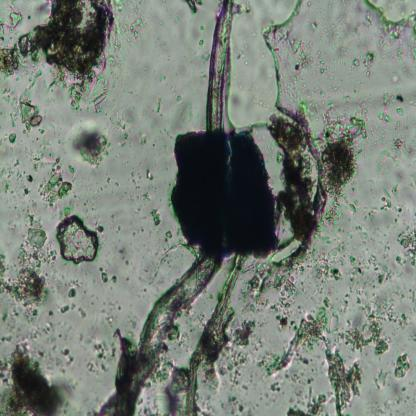Background material: (263, 310, 364, 416), (186, 256, 249, 416), (1, 0, 117, 77), (273, 104, 326, 252), (0, 343, 71, 416), (0, 228, 56, 304), (318, 112, 364, 204), (242, 252, 302, 315), (144, 349, 189, 415), (274, 27, 328, 82), (338, 303, 391, 357), (50, 74, 117, 115), (57, 206, 102, 262), (0, 77, 43, 129), (374, 17, 416, 68), (376, 123, 416, 175), (66, 124, 111, 168), (40, 155, 72, 206), (348, 254, 394, 288), (326, 17, 360, 62), (316, 195, 357, 232), (308, 245, 344, 286), (218, 346, 248, 390), (86, 339, 117, 376), (288, 386, 326, 416), (114, 17, 144, 53), (113, 110, 141, 148), (0, 0, 23, 44), (345, 83, 373, 114), (232, 320, 261, 349), (0, 158, 21, 196), (394, 228, 416, 264), (350, 50, 377, 78), (25, 140, 49, 170), (383, 182, 403, 217), (242, 90, 276, 110), (175, 92, 194, 126), (270, 311, 300, 331), (21, 205, 44, 229), (0, 303, 22, 327), (14, 327, 41, 346), (43, 320, 59, 352), (394, 353, 412, 381), (380, 90, 395, 122), (15, 169, 31, 198), (225, 393, 245, 415), (372, 369, 390, 391), (129, 169, 145, 190), (171, 8, 188, 27), (98, 268, 118, 284), (236, 44, 250, 66), (388, 311, 408, 326), (24, 303, 39, 323), (304, 86, 326, 99), (354, 225, 369, 244), (320, 293, 335, 311), (363, 206, 381, 221), (269, 379, 285, 395), (62, 347, 75, 365), (389, 70, 403, 85), (313, 233, 331, 244), (309, 20, 323, 34), (5, 129, 18, 144), (152, 209, 162, 227), (395, 105, 405, 119), (0, 334, 14, 343), (78, 306, 88, 318), (200, 52, 210, 64), (158, 72, 168, 84), (139, 132, 149, 144), (394, 92, 404, 104), (326, 101, 336, 113), (145, 168, 154, 180), (108, 314, 116, 327), (140, 192, 150, 202), (25, 173, 35, 183), (59, 304, 70, 313), (156, 96, 161, 115), (114, 224, 124, 233), (69, 288, 76, 300), (190, 8, 199, 16), (197, 40, 206, 48), (104, 176, 112, 184), (166, 230, 173, 239), (48, 309, 54, 316)
Cellulose filter fibre: (96, 255, 221, 414), (206, 1, 236, 132), (201, 24, 206, 32)
Fragment: (168, 126, 282, 264)
